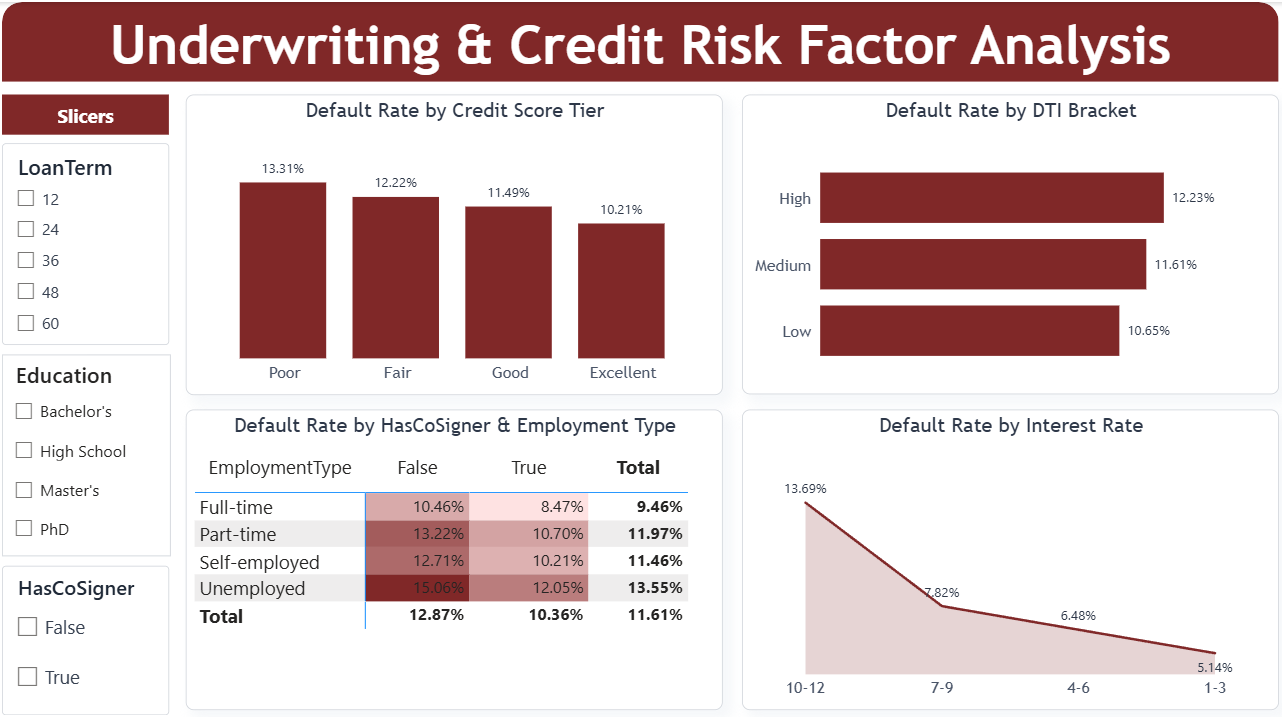

What the dashboard file says about the page in this screenshot:
{"tool":"powerbi","page":{"name":"Underwriting & Credit Risk Factors Analysis","canvas":[1280,720],"ordinal":1},"visuals":[{"type":"shape","box":[4.7,0,1270.7,79.6],"z":0},{"type":"slicer","fields":{"Values":["Loan_default.LoanTerm"]},"box":[4.9,141,166.8,201],"z":1000},{"type":"slicer","fields":{"Values":["Loan_default.Education"]},"box":[4.9,351.1,168.2,201],"z":2000},{"type":"slicer","fields":{"Values":["Loan_default.HasCoSigner"]},"box":[4.9,561.3,166.1,148.9],"z":3000},{"type":"clusteredBarChart","title":"Default Rate by DTI Bracket","fields":{"Category":["Loan_default.DTI Bracket"],"Y":["Measures Table 1.Default Rate"]},"box":[741,91.7,534.4,298.4],"z":4000},{"type":"columnChart","title":"Default Rate by Credit Score Tier","fields":{"Y":["Measures Table 1.Default Rate"],"Category":["Loan_default.Credit Score Bin"]},"box":[188.3,91.7,534.4,299.6],"z":5000},{"type":"pivotTable","title":"Default Rate by HasCoSigner & Employment Type","fields":{"Values":["Measures Table 1.Default Rate"],"Rows":["Loan_default.HasCoSigner"],"Columns":["Loan_default.HasMortgage"]},"box":[188.3,406,534.4,299.6],"z":6000},{"type":"lineChart","title":"Default Rate by Interest Rate","fields":{"Y":["Measures Table 1.Default Rate"],"Category":["Loan_default.Interest Rate Bin"]},"box":[741,406,534.4,299.6],"z":7000},{"type":"shape","box":[4.9,91.7,166.1,40.1],"z":8000}]}

Visuals, with their boxes in screenshot pixels (x1, y1, x2, y2), scaled from the page's 1280x720 canvas onto the 1282x717 screenshot:
shape: pyautogui.locateOnScreen(5, 0, 1277, 79)
slicer - Loan_default.LoanTerm: pyautogui.locateOnScreen(5, 140, 172, 341)
slicer - Loan_default.Education: pyautogui.locateOnScreen(5, 350, 173, 550)
slicer - Loan_default.HasCoSigner: pyautogui.locateOnScreen(5, 559, 171, 707)
"Default Rate by DTI Bracket" clusteredBarChart: pyautogui.locateOnScreen(742, 91, 1277, 388)
"Default Rate by Credit Score Tier" columnChart: pyautogui.locateOnScreen(189, 91, 724, 390)
"Default Rate by HasCoSigner & Employment Type" pivotTable: pyautogui.locateOnScreen(189, 404, 724, 703)
"Default Rate by Interest Rate" lineChart: pyautogui.locateOnScreen(742, 404, 1277, 703)
shape: pyautogui.locateOnScreen(5, 91, 171, 131)
